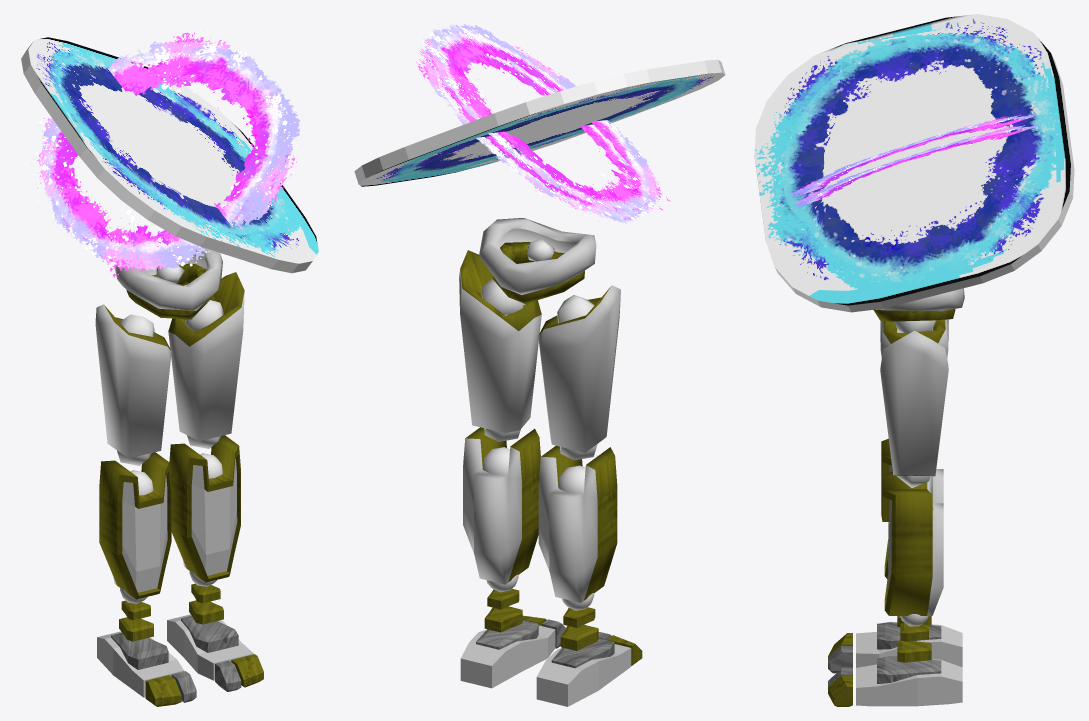
File: Robot 10 legs.fbx
3 views of the same model, side by side, from view 1: azimuth 30°, elevation 25°; view 2: azimuth 150°, elevation 25°; view 3: azimuth 270°, elevation 25° (orthographic). The views are drawn at different scales.
Parts seen in each view (by area): view 1: galaxy blue, galaxy purple, Icosphere.001, Icosphere, Icosphere.011, Icosphere.012, NurbsCircle.002, Cube.015, Cube.027, Cube.021, Cube.029, Cube.023 (+3 smaller); view 2: galaxy purple, galaxy blue, Icosphere.001, Icosphere.011, Icosphere, Icosphere.012, NurbsCircle.002, Cube.027, Cube.015, Cube.025, Cube.023; view 3: galaxy blue, Icosphere.001, Icosphere.012, Cube.027, galaxy purple, Cube.015, NurbsCircle.002, Icosphere, Icosphere.011, Cube.025, Cube.029, Cube.020.
Part boxes in pixels (x1=…): galaxy blue: x1=21, y1=37, x2=318, y2=273; galaxy purple: x1=33, y1=31, x2=305, y2=277; Icosphere.001: x1=168, y1=272, x2=244, y2=448; Icosphere: x1=95, y1=304, x2=171, y2=465; Icosphere.011: x1=99, y1=452, x2=171, y2=603; Icosphere.012: x1=169, y1=435, x2=240, y2=586; NurbsCircle.002: x1=115, y1=247, x2=222, y2=319; Cube.015: x1=97, y1=631, x2=184, y2=697; Cube.027: x1=167, y1=614, x2=253, y2=680; Cube.021: x1=145, y1=675, x2=181, y2=706; Cube.029: x1=231, y1=654, x2=263, y2=687; Cube.023: x1=119, y1=617, x2=153, y2=641; galaxy purple: x1=416, y1=23, x2=670, y2=228; galaxy blue: x1=354, y1=59, x2=725, y2=186; Icosphere.001: x1=459, y1=250, x2=541, y2=441; Icosphere.011: x1=538, y1=445, x2=617, y2=610; Icosphere: x1=538, y1=285, x2=620, y2=460; Icosphere.012: x1=463, y1=427, x2=540, y2=592; NurbsCircle.002: x1=479, y1=218, x2=596, y2=303; Cube.027: x1=460, y1=620, x2=555, y2=688; Cube.015: x1=536, y1=638, x2=631, y2=706; Cube.025: x1=484, y1=606, x2=522, y2=632; Cube.023: x1=560, y1=625, x2=598, y2=650; galaxy blue: x1=754, y1=14, x2=1074, y2=312; Icosphere.001: x1=880, y1=330, x2=948, y2=487; Icosphere.012: x1=881, y1=471, x2=943, y2=626; Cube.027: x1=856, y1=656, x2=962, y2=706; galaxy purple: x1=789, y1=114, x2=1040, y2=207; Cube.015: x1=856, y1=622, x2=962, y2=667; NurbsCircle.002: x1=873, y1=288, x2=964, y2=321; Icosphere: x1=880, y1=319, x2=948, y2=358; Icosphere.011: x1=881, y1=438, x2=943, y2=578; Cube.025: x1=897, y1=640, x2=931, y2=662; Cube.029: x1=828, y1=675, x2=852, y2=706; Cube.020: x1=828, y1=646, x2=852, y2=673.
Bounding box in the file's own units: 716 × 1694 × 799.
